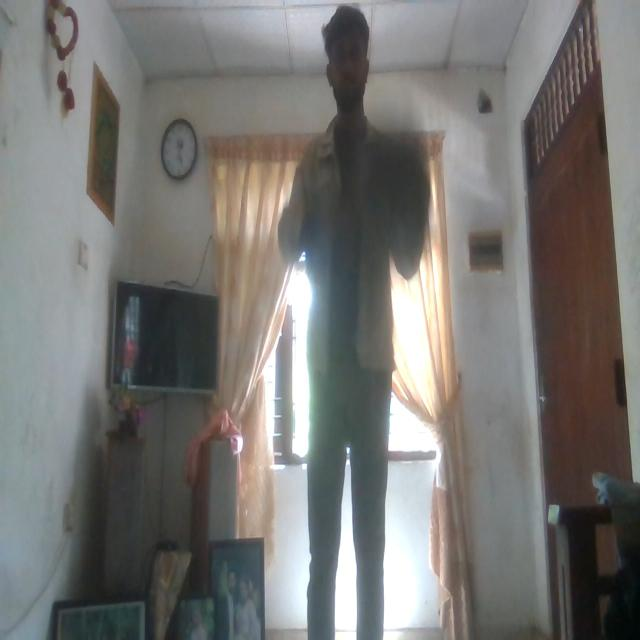Jacket_Wearer: (278, 116, 430, 404)
Person: (278, 0, 426, 640)
